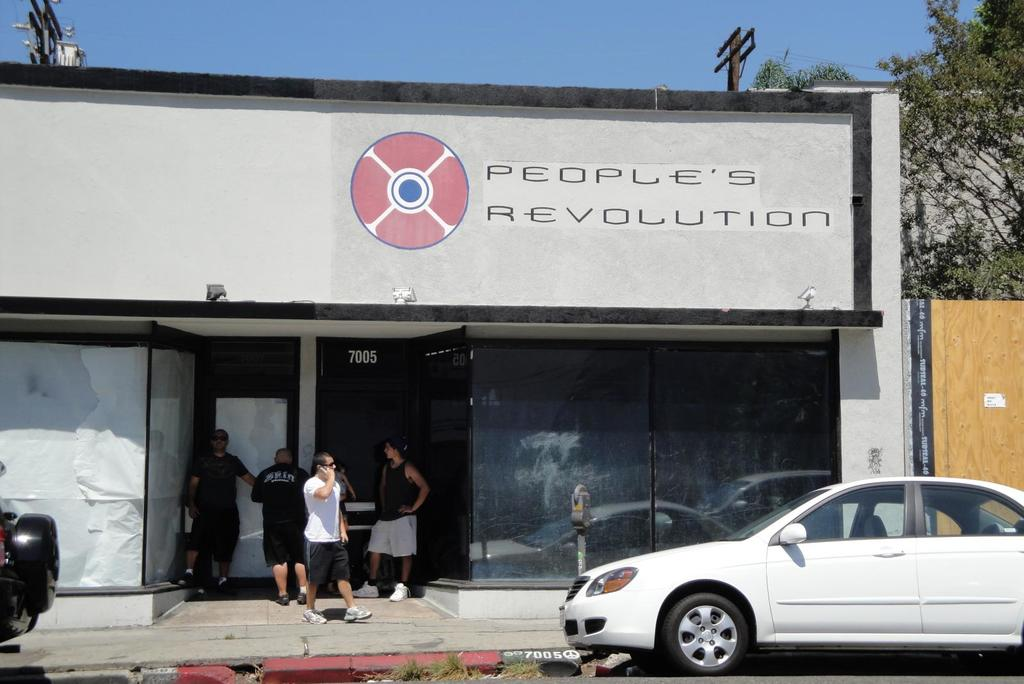cars: (559, 475, 1023, 675)
